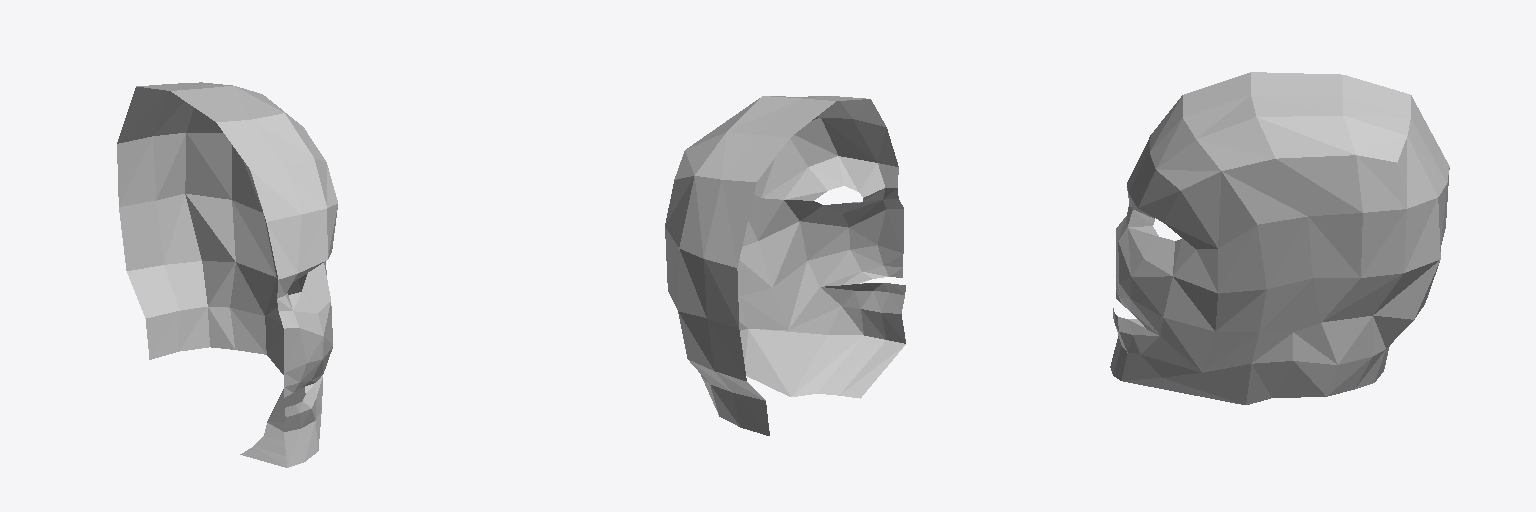
The model's file is HeadNoNose.obj.
3 renders of one model, left to right at view 1: azimuth 30°, elevation 25°; view 2: azimuth 150°, elevation 25°; view 3: azimuth 270°, elevation 25°, orthographic.
Parts seen in each view (by area): view 1: pCube2; view 2: pCube2; view 3: pCube2.
Part boxes in pixels (x1,y1,x2,y2): pCube2: (117, 82, 337, 467); pCube2: (665, 96, 905, 435); pCube2: (1110, 72, 1449, 404).
Size of the model in its own units: 27.23 by 75.27 by 73.53.